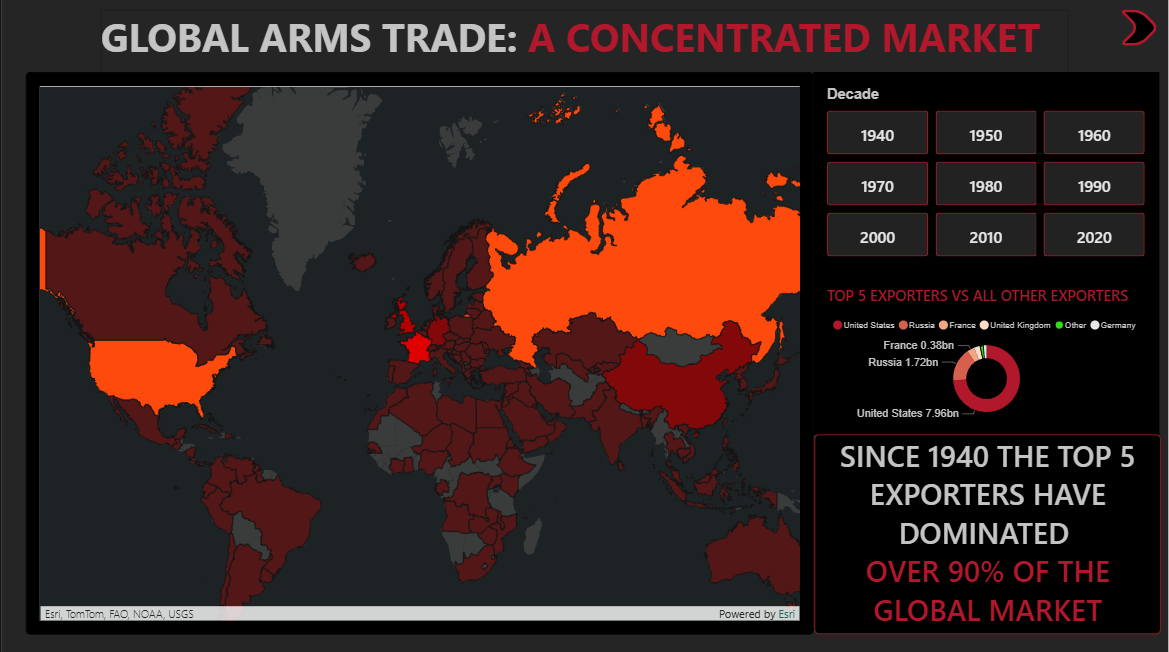

The dashboard page shown, as its layout file describes it:
{"tool":"powerbi","page":{"name":"Page 1","canvas":[1280,720],"ordinal":0},"visuals":[{"type":"textbox","box":[108.4,13.7,1062.1,124.9],"z":0},{"type":"advancedSlicerVisual","fields":{"Values":["arms_trade_clustered.Decade"]},"box":[890.6,82.3,380.1,218.2],"z":1000},{"type":"donutChart","title":"TOP 5 EXPORTERS VS ALL OTHER EXPORTERS","fields":{"Y":["Sum(arms_trade_clustered.Supplier_Total_TIV)"],"Category":["arms_trade_clustered.Supplier (groups)"]},"box":[890.6,300.5,380.1,179.8],"z":2000},{"type":"actionButton","box":[1225.4,13.7,45.3,39.8],"z":3000},{"type":"textbox","box":[891.9,480.3,380.1,219.6],"z":4000},{"type":"esriVisual","fields":{"Location":["arms_trade_clustered.Supplier"],"Color":["Sum(arms_trade_clustered.Supplier_Total_TIV)"]},"box":[26.1,82.3,864.5,617.5],"z":5000}]}

Visuals, with their boxes in screenshot pixels (x1, y1, x2, y2), scaled from the page's 1280x720 canvas onto the 1169x652 screenshot:
textbox: select_region(99, 12, 1069, 126)
advancedSlicerVisual - arms_trade_clustered.Decade: select_region(813, 75, 1161, 272)
"TOP 5 EXPORTERS VS ALL OTHER EXPORTERS" donutChart: select_region(813, 272, 1161, 435)
actionButton: select_region(1119, 12, 1161, 48)
textbox: select_region(815, 435, 1162, 634)
esriVisual - arms_trade_clustered.Supplier x Sum(arms_trade_clustered.Supplier_Total_TIV): select_region(24, 75, 813, 634)
